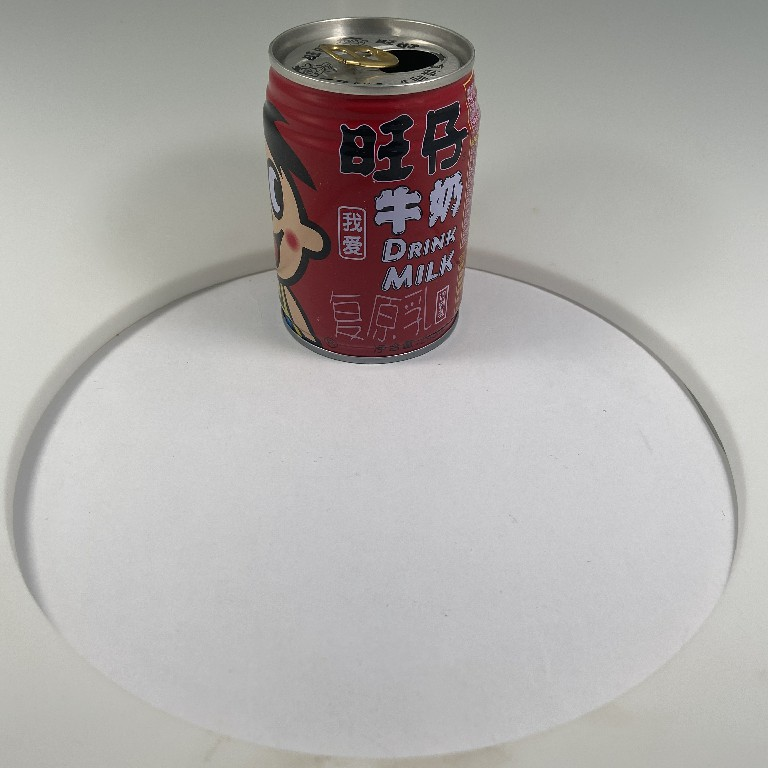can: (258, 13, 485, 366)
